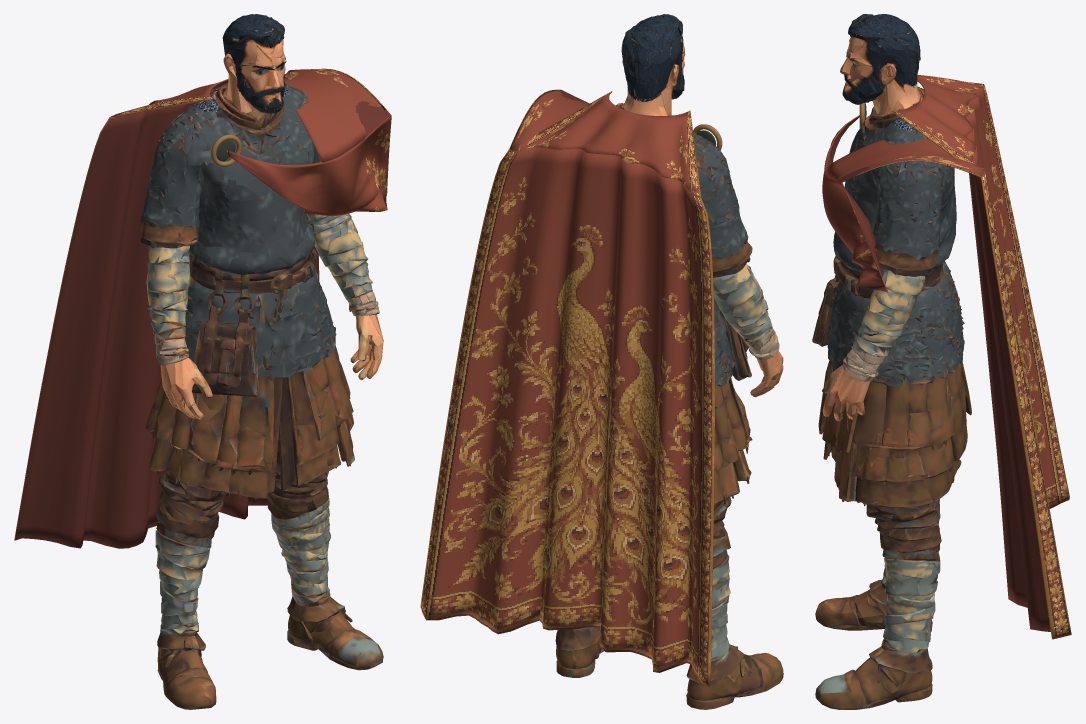
The model's file is mercenary-restored.glb.
3 views of the same model, side by side, from view 1: azimuth 30°, elevation 25°; view 2: azimuth 150°, elevation 25°; view 3: azimuth 270°, elevation 25° (orthographic).
Visible parts, largest first — view 1: mercenary-restored runtime mesh; view 2: mercenary-restored runtime mesh; view 3: mercenary-restored runtime mesh.
Part boxes in pixels (<box>): mercenary-restored runtime mesh: <box>14,14,391,709</box>; mercenary-restored runtime mesh: <box>420,14,783,709</box>; mercenary-restored runtime mesh: <box>812,14,1071,709</box>.
Size of the model in its own units: 0.9693 by 2.03 by 0.7416.
Materials: 8 (2 with a texture image).
